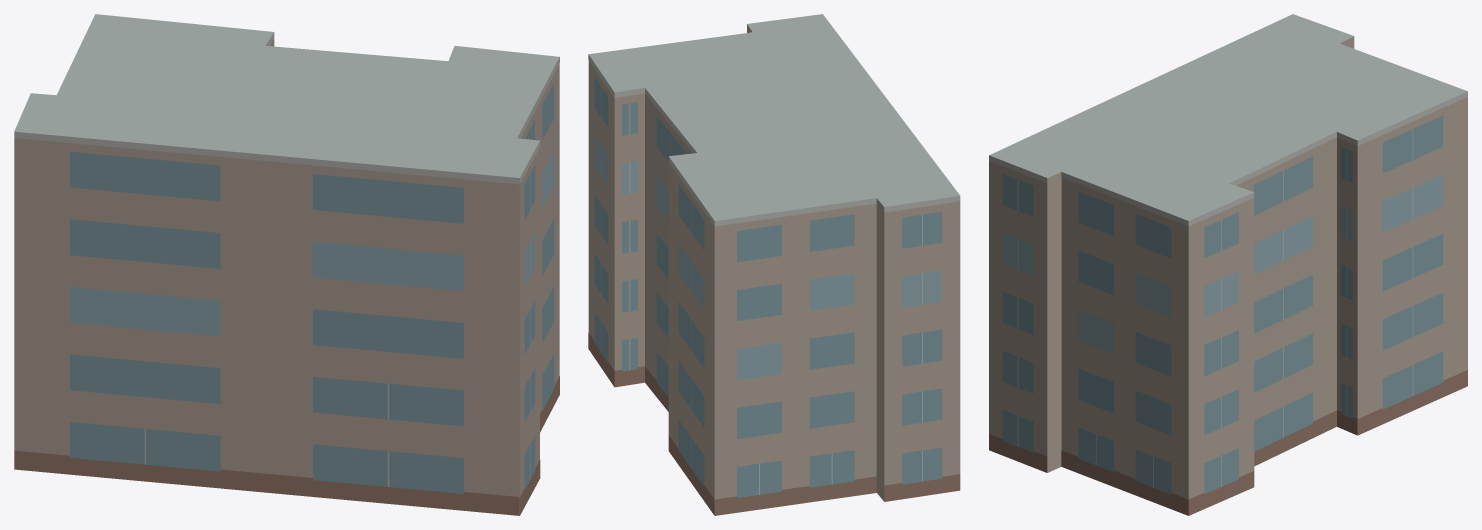
Rendered from survey-upis-32881563.glb.
The picture shows the model from 3 angles, left to right: view 1: azimuth 30°, elevation 25°; view 2: azimuth 150°, elevation 25°; view 3: azimuth 270°, elevation 25°; orthographic projection. The views are drawn at different scales.
Parts seen in each view (by area): view 1: survey-upis-32881563.tmp; view 2: survey-upis-32881563.tmp; view 3: survey-upis-32881563.tmp.
Part boxes in pixels (box(x1,y1,x2,y2)): survey-upis-32881563.tmp: box(14, 14, 559, 515); survey-upis-32881563.tmp: box(588, 14, 960, 515); survey-upis-32881563.tmp: box(989, 14, 1467, 515).
Bounding box in the file's own units: 19.73 × 13.1 × 19.28.
